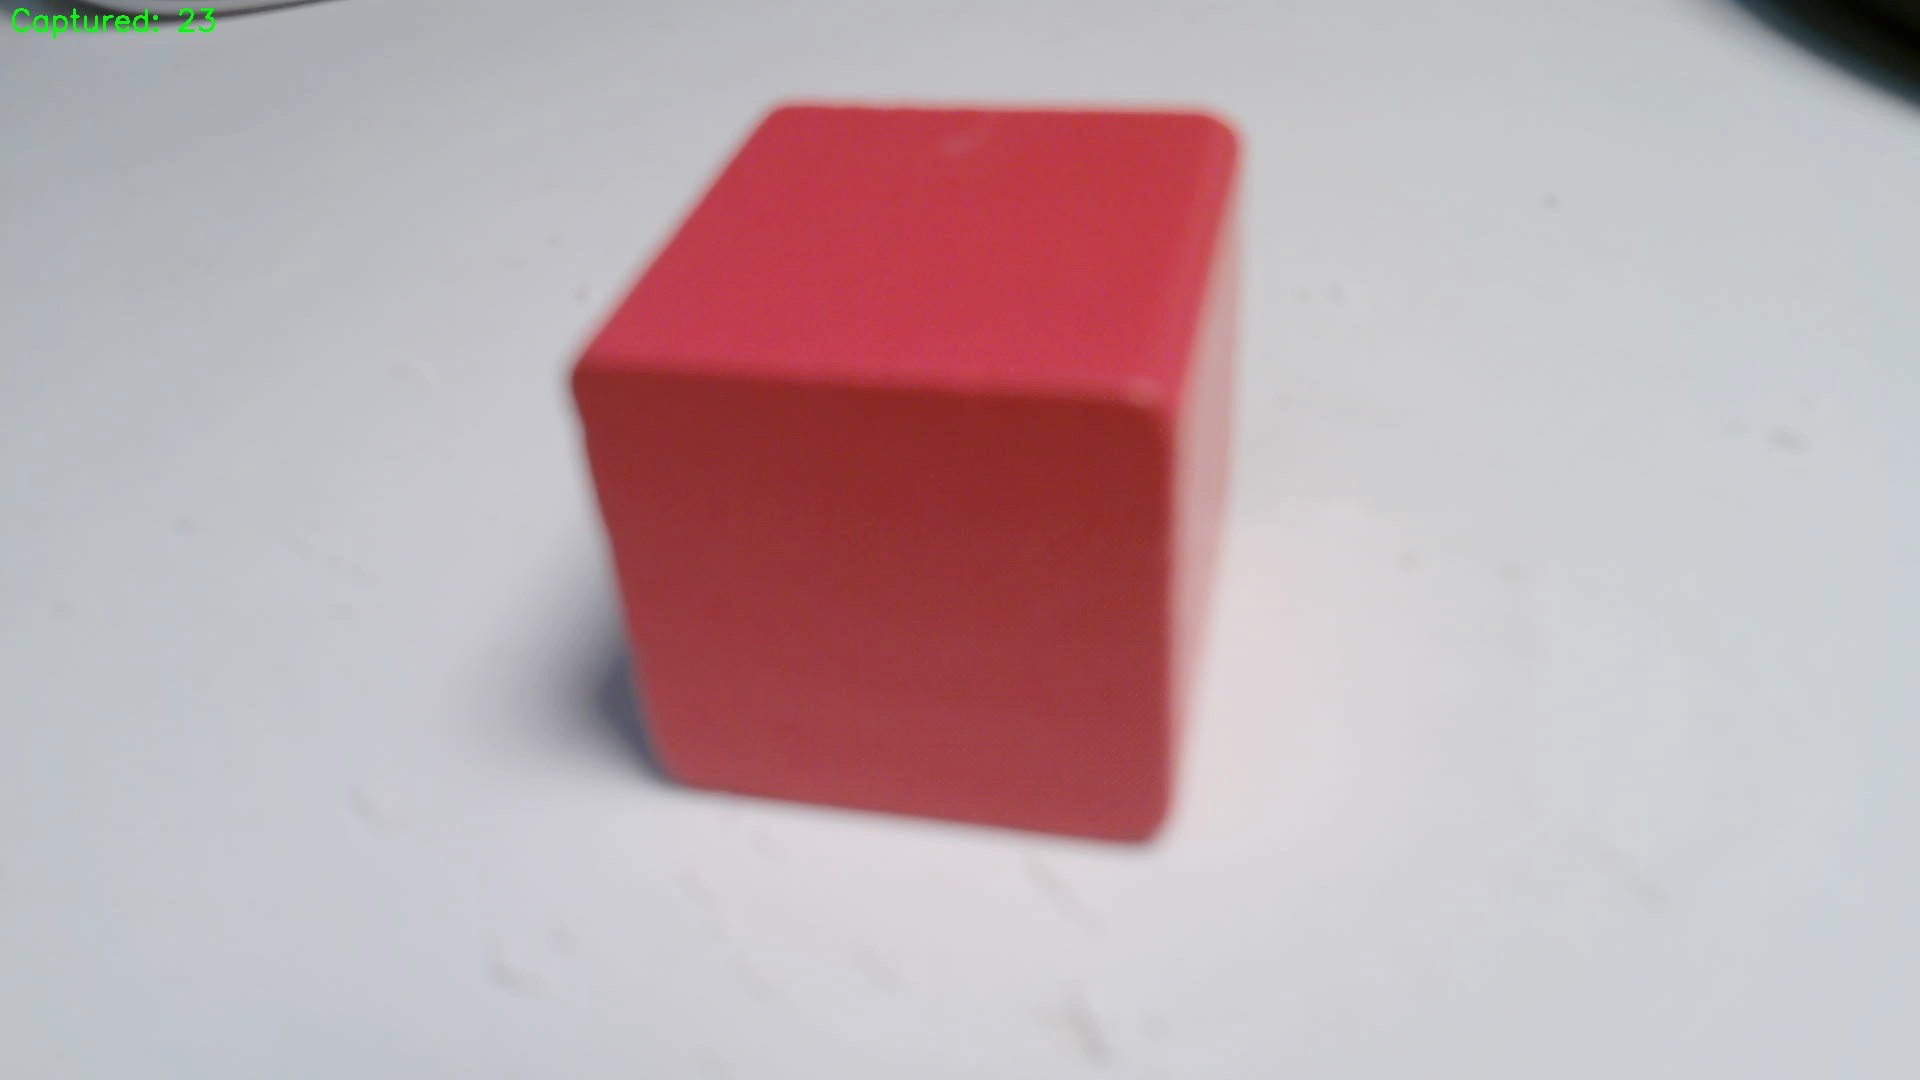red: (576, 105, 1254, 844)
